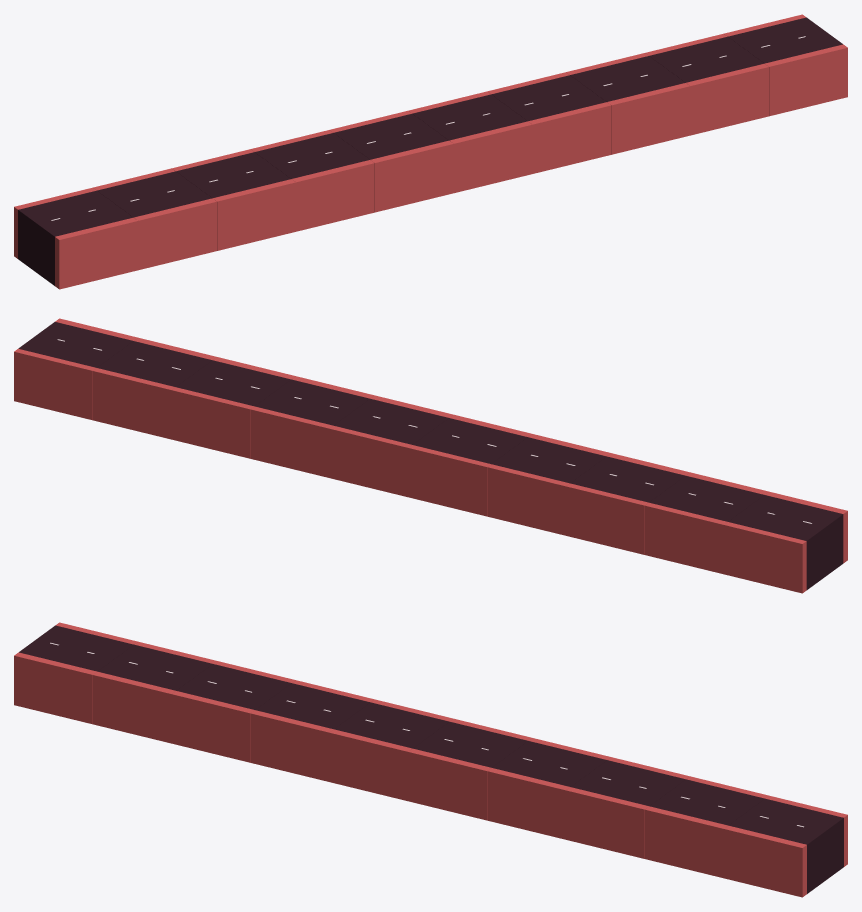
Rendered from road_droit.glb.
3 views of the same model, one above another, from view 1: azimuth 30°, elevation 25°; view 2: azimuth 150°, elevation 25°; view 3: azimuth 330°, elevation 25° (orthographic).
Visible parts, largest first — view 1: Cube.024; view 2: Cube.024; view 3: Cube.024.
Part boxes in pixels (x1,y1,x2,y2): Cube.024: (14, 14, 847, 289); Cube.024: (14, 318, 847, 593); Cube.024: (14, 622, 847, 897).
Size of the model in its own units: 600 by 35.94 by 59.9.
Materials: 1 (1 with a texture image).
